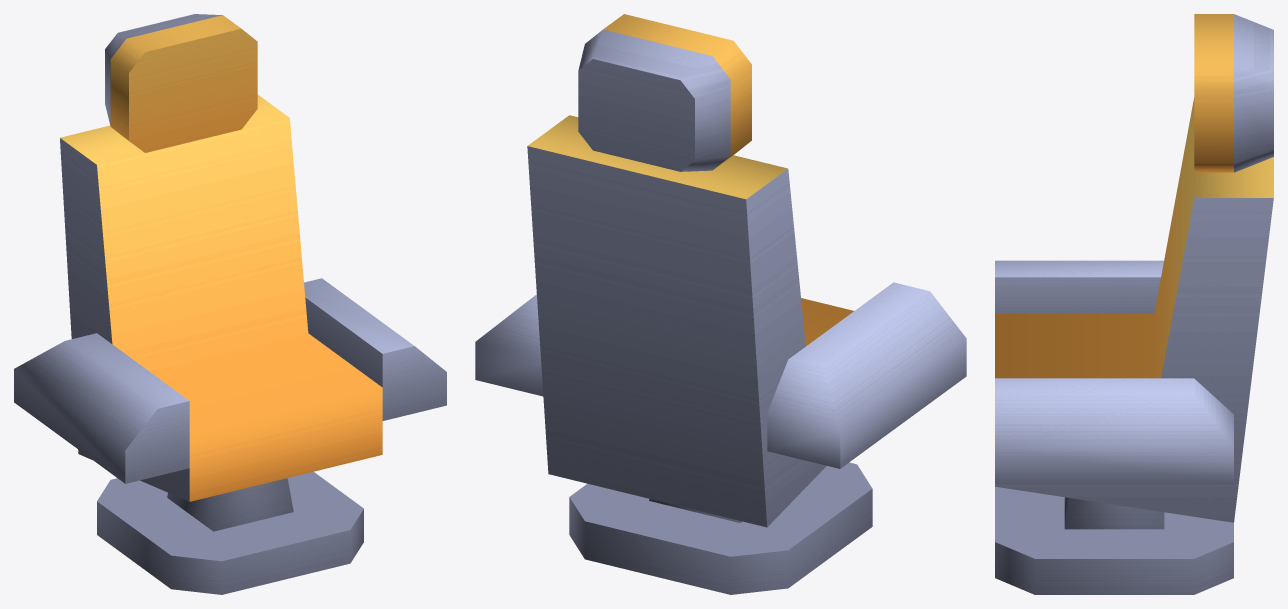
File: chair_armrest_headrest.glb
3 views of the same model, side by side, from view 1: azimuth 30°, elevation 25°; view 2: azimuth 150°, elevation 25°; view 3: azimuth 270°, elevation 25° (orthographic). The views are drawn at different scales.
Parts seen in each view (by area): view 1: chair-armrest-headrest; view 2: chair-armrest-headrest; view 3: chair-armrest-headrest.
Part boxes in pixels (x1,y1,x2,y2): chair-armrest-headrest: (14,14,446,594); chair-armrest-headrest: (475,14,966,594); chair-armrest-headrest: (995,14,1273,594).
Size of the model in its own units: 0.5 by 0.7 by 0.35.
Materials: 1 (1 with a texture image).
